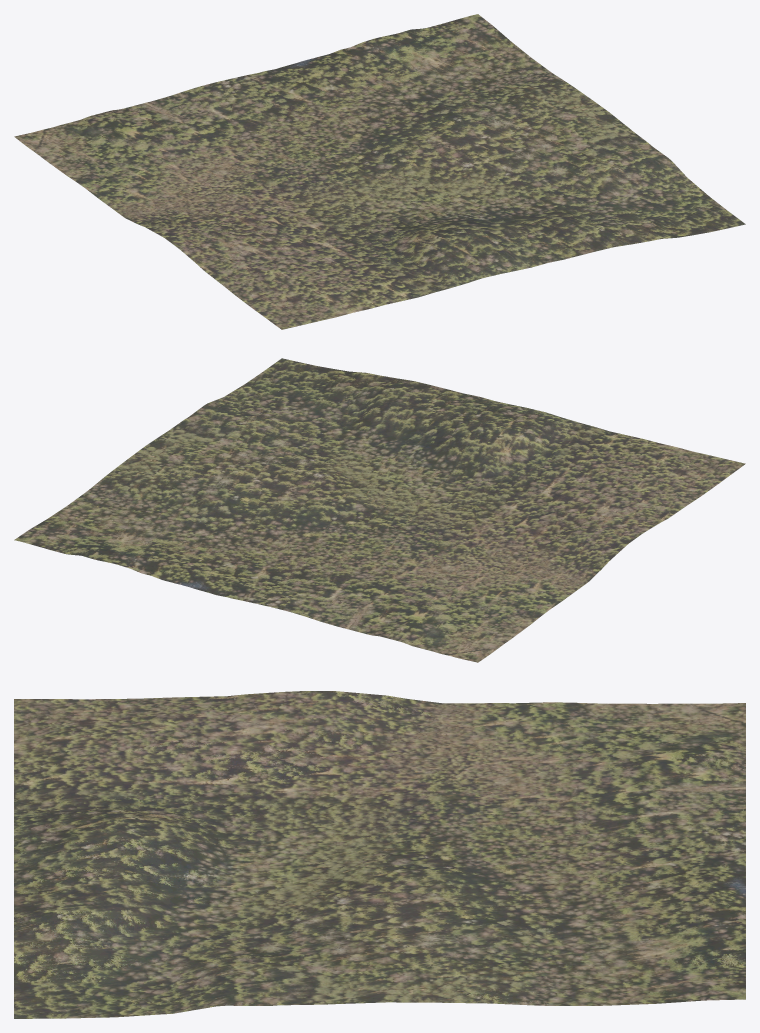
The model's file is CM_Terrain_24493326_6814264.fbx.
The picture shows the model from 3 angles, top to bottom: view 1: azimuth 30°, elevation 25°; view 2: azimuth 150°, elevation 25°; view 3: azimuth 270°, elevation 25°; orthographic projection. The views are drawn at different scales.
Visible parts, largest first — view 1: CM_Terrain_24493326_6814264_LOD0; view 2: CM_Terrain_24493326_6814264_LOD0; view 3: CM_Terrain_24493326_6814264_LOD0.
Boxes of the visible parts, box(x1,y1,x2,y2) form: CM_Terrain_24493326_6814264_LOD0: box(14, 14, 745, 329); CM_Terrain_24493326_6814264_LOD0: box(14, 358, 745, 662); CM_Terrain_24493326_6814264_LOD0: box(14, 691, 745, 1018).
Size of what is drawn, in the model's own units: 205 by 8.87 by 205.
